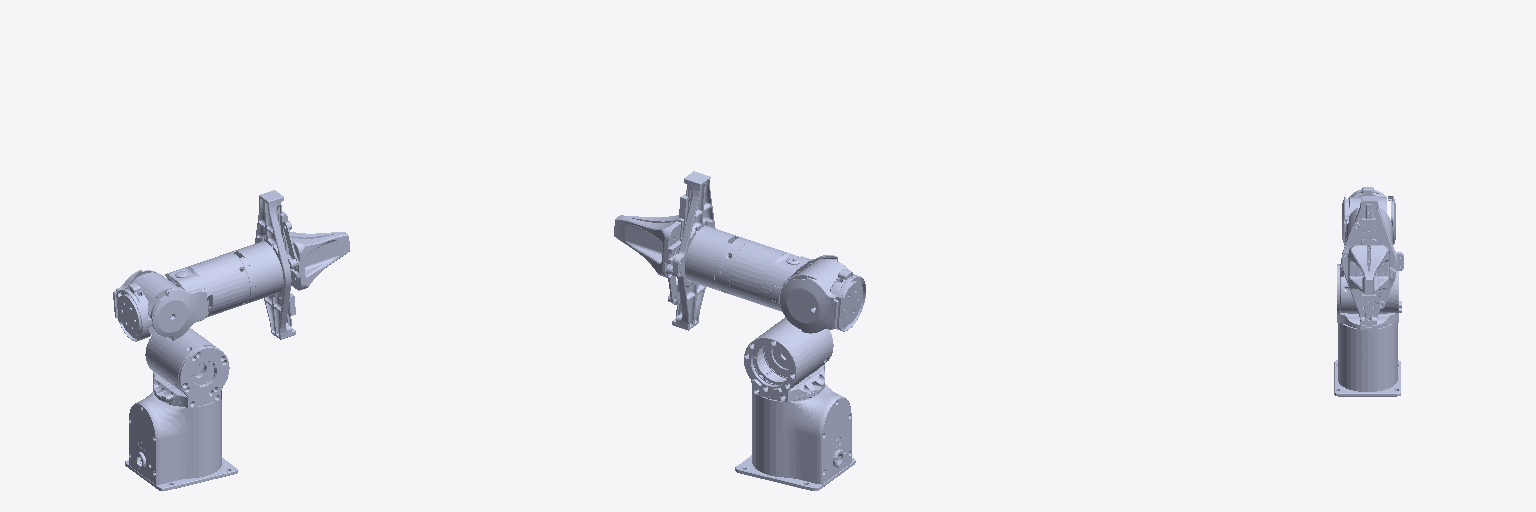
robot.urdf — agilex_piper_with_gripper:
<?xml version='1.0' encoding='utf-8'?>
<robot name="agilex_piper_with_gripper">
  <!-- Imported from piper_description 1.0.0; piper_description_v100.urdf SHA-256 f45e318ad58339945e5845f4e7a6db22dd334c1f8d4f1f1004285b6fd3be8529; joint frames aligned to the delivered MJCF; fixed TCP at link6 +Z 0.13503 m. -->
  <link name="arm_base">
    <inertial>
      <origin xyz="-0.00979274765955341 1.82905827587138E-06 0.0410100126360189" rpy="0 0 0" />
      <mass value="0.162548567403693" />
      <inertia ixx="0.000226596924525071" ixy="-7.33972270153965E-08" ixz="2.13249977802622E-06" iyy="0.000269444772561524" iyz="8.15169009611054E-09" izz="0.000222318258878636" />
    </inertial>
    <visual>
      <origin xyz="0 0 0" rpy="0 0 0" />
      <geometry>
        <mesh filename="meshes/dae/base_link.dae" />
      </geometry>
      <material name="">
        <color rgba="0.792156862745098 0.819607843137255 0.933333333333333 1" />
      </material>
    </visual>
    <collision>
      <origin xyz="0 0 0" rpy="0 0 0" />
      <geometry>
        <mesh filename="meshes/base_link.STL" />
      </geometry>
    </collision>
  </link>
  <link name="link1">
    <inertial>
      <origin xyz="0.00131676031927024 0.000310288842008612 -0.00922874512303437" rpy="0 0 0" />
      <mass value="0.0978679932242825" />
      <inertia ixx="7.76684558296782E-05" ixy="1.09084650459924E-07" ixz="-1.9748053243241E-06" iyy="9.24967780161547E-05" iyz="9.91284646834582E-07" izz="8.24589062407807E-05" />
    </inertial>
    <visual>
      <origin xyz="0 0 0" rpy="0 0 0" />
      <geometry>
        <mesh filename="meshes/dae/link1.dae" />
      </geometry>
      <material name="">
        <color rgba="0.792156862745098 0.819607843137255 0.933333333333333 1" />
      </material>
    </visual>
    <collision>
      <origin xyz="0 0 0" rpy="0 0 1.5708" />
      <geometry>
        <mesh filename="meshes/link1.STL" />
      </geometry>
    </collision>
  </link>
  <joint name="joint1" type="revolute">
    <origin xyz="0 0 0.123" rpy="0 0 -1.5708005694" />
    <parent link="arm_base" />
    <child link="link1" />
    <axis xyz="0 0 1" />
    <limit lower="-2.6179" upper="2.6179" effort="100" velocity="3" />
  </joint>
  <link name="link2">
    <inertial>
      <origin xyz="0.148793602378802 -0.00242026983944119 0.00175154638467948" rpy="0 0 0" />
      <mass value="0.290888938633388" />
      <inertia ixx="0.000148959640166183" ixy="-7.37750384371657E-05" ixz="-9.68688405196236E-07" iyy="0.00172800946632652" iyz="-1.09692225564224E-06" izz="0.0017754628344594" />
    </inertial>
    <visual>
      <origin xyz="0 0 0" rpy="0 0 0" />
      <geometry>
        <mesh filename="meshes/dae/link2.dae" />
      </geometry>
      <material name="">
        <color rgba="0.792156862745098 0.819607843137255 0.933333333333333 1" />
      </material>
    </visual>
    <collision>
      <origin xyz="0 0 0" rpy="0 0 0.1" />
      <geometry>
        <mesh filename="meshes/link2.STL" />
      </geometry>
    </collision>
  </link>
  <joint name="joint2" type="revolute">
    <origin xyz="0 0 0" rpy="1.5708003268 0 -1.5708003268" />
    <parent link="link1" />
    <child link="link2" />
    <axis xyz="0 0 1" />
    <limit lower="0" upper="3.14" effort="100" velocity="3" />
  </joint>
  <link name="link3">
    <inertial>
      <origin xyz="-0.0996835215213704 0.0349477226691318 0.000508025815507312" rpy="0 0 0" />
      <mass value="0.290847697793211" />
      <inertia ixx="0.000107879011637167" ixy="2.92669521203626E-05" ixz="6.825922326238E-07" iyy="0.000214751671792086" iyz="-7.78469047878196E-07" izz="0.000241923439340319" />
    </inertial>
    <visual>
      <origin xyz="0 0 0" rpy="0 0 0" />
      <geometry>
        <mesh filename="meshes/dae/link3.dae" />
      </geometry>
      <material name="">
        <color rgba="0.792156862745098 0.819607843137255 0.933333333333333 1" />
      </material>
    </visual>
    <collision>
      <origin xyz="0 0 0" rpy="0 0 -1.75" />
      <geometry>
        <mesh filename="meshes/link3.STL" />
      </geometry>
    </collision>
  </link>
  <joint name="joint3" type="revolute">
    <origin xyz="0.28358 0.028726 0" rpy="0 0 0.1009501011" />
    <parent link="link2" />
    <child link="link3" />
    <axis xyz="0 0 1" />
    <limit lower="-2.967" upper="0" effort="100" velocity="3" />
  </joint>
  <link name="link4">
    <inertial>
      <origin xyz="0.000276464622387979 -0.00102803669324875 -0.00472830700561663" rpy="0 0 0" />
      <mass value="0.127087348341362" />
      <inertia ixx="3.82011730423416E-05" ixy="-4.92358350897513E-08" ixz="4.89589432973119E-08" iyy="4.87048555222578E-05" iyz="6.70802942500512E-08" izz="4.10592077565559E-05" />
    </inertial>
    <visual>
      <origin xyz="0 0 0" rpy="0 0 0" />
      <geometry>
        <mesh filename="meshes/dae/link4.dae" />
      </geometry>
      <material name="">
        <color rgba="0.792156862745098 0.819607843137255 0.933333333333333 1" />
      </material>
    </visual>
    <collision>
      <origin xyz="0 0 0" rpy="0 0 0" />
      <geometry>
        <mesh filename="meshes/link4.STL" />
      </geometry>
    </collision>
  </link>
  <joint name="joint4" type="revolute">
    <origin xyz="-0.24221 0.068514 0" rpy="-1.5707994075 0.0000007137 1.382599809" />
    <parent link="link3" />
    <child link="link4" />
    <axis xyz="0 0 1" />
    <limit lower="-1.745" upper="1.745" effort="100" velocity="3" />
  </joint>
  <link name="link5">
    <inertial>
      <origin xyz="8.82262433516967E-05 0.0566829014808256 -0.00196119720482461" rpy="0 0 0" />
      <mass value="0.144711242639457" />
      <inertia ixx="4.39644313662493E-05" ixy="-3.59259686444846E-08" ixz="-1.89747741386183E-08" iyy="5.63173920951307E-05" iyz="-2.1540716689785E-07" izz="4.88713664675268E-05" />
    </inertial>
    <visual>
      <origin xyz="0 0 0" rpy="0 0 0" />
      <geometry>
        <mesh filename="meshes/dae/link5.dae" />
      </geometry>
      <material name="">
        <color rgba="0.792156862745098 0.819607843137255 0.933333333333333 1" />
      </material>
    </visual>
    <collision>
      <origin xyz="0 0 0" rpy="0 0 -3.14" />
      <geometry>
        <mesh filename="meshes/link5.STL" />
      </geometry>
    </collision>
  </link>
  <joint name="joint5" type="revolute">
    <origin xyz="0 0 0" rpy="1.5708005694 0 0" />
    <parent link="link4" />
    <child link="link5" />
    <axis xyz="0 0 1" />
    <limit lower="-1.22" upper="1.22" effort="100" velocity="3" />
  </joint>
  <link name="link6">
    <inertial>
      <origin xyz="0.00103120214523473 0.0121761387587524 0.0315480874960164" rpy="0 0 0" />
      <mass value="0.195187143240719" />
      <inertia ixx="6.43790256535539E-05" ixy="-1.2366166157046E-06" ixz="1.97664606328472E-07" iyy="0.000126146396374301" iyz="2.41157078516408E-06" izz="0.000154087076816444" />
    </inertial>
    <visual>
      <origin xyz="-0.002 -0.0078 0.06" rpy="-1.57 0 0" />
      <geometry>
        <mesh filename="meshes/dae/gripper_base_100_v2.dae" />
      </geometry>
      <material name="">
        <color rgba="0.792156862745098 0.819607843137255 0.933333333333333 1" />
      </material>
    </visual>
    <collision>
      <origin xyz="-0.002 -0.0078 0.06" rpy="-1.57 0 0" />
      <geometry>
        <mesh filename="meshes/dae/gripper_base_100_v2.dae" />
      </geometry>
    </collision>
  </link>
  <joint name="joint6" type="revolute">
    <origin xyz="0 0.091 0.0014165" rpy="1.5707920842 0 -3.1415926536" />
    <parent link="link5" />
    <child link="link6" />
    <axis xyz="0 0 1" />
    <limit lower="-2.09439" upper="2.09439" effort="100" velocity="3" />
  </joint>
  <link name="link7">
    <inertial>
      <origin xyz="-0.000277778383727112 -0.0467673043650824 -0.00921029491873201" rpy="0 0 0" />
      <mass value="0.02648229234527" />
      <inertia ixx="9.99787479924589E-06" ixy="-1.57548495096104E-07" ixz="-2.71342775003487E-08" iyy="6.1795212293655E-06" iyz="-1.58939803580081E-06" izz="1.42102717246564E-05" />
    </inertial>
    <visual>
      <origin xyz="0 0 0" rpy="0 0 0" />
      <geometry>
        <mesh filename="meshes/dae/link7.dae" />
      </geometry>
      <material name="">
        <color rgba="0.792156862745098 0.819607843137255 0.933333333333333 1" />
      </material>
    </visual>
    <collision>
      <origin xyz="-0.001 0 0.0003" rpy="0 3.14 0" />
      <geometry>
        <mesh filename="meshes/link7.STL" />
      </geometry>
    </collision>
  </link>
  <joint name="joint7" type="prismatic">
    <origin xyz="0 0 0.13503" rpy="1.5708005694 0 3.1415926" />
    <parent link="link6" />
    <child link="link7" />
    <axis xyz="0 0 -1" />
    <limit lower="0" upper="0.0525" effort="100" velocity="1" />
  </joint>
  <link name="link8">
    <inertial>
      <origin xyz="0.000277816920932317 0.0467673824063769 -0.00921030054508036" rpy="0 0 0" />
      <mass value="0.0264822021416248" />
      <inertia ixx="9.99779119357223E-06" ixy="-1.57542283433504E-07" ixz="2.71367446701359E-08" iyy="6.17952441557932E-06" iyz="1.58939319453383E-06" izz="1.4210192754512E-05" />
    </inertial>
    <visual>
      <origin xyz="0 0 0" rpy="0 0 0" />
      <geometry>
        <mesh filename="meshes/dae/link8.dae" />
      </geometry>
      <material name="">
        <color rgba="0.792156862745098 0.819607843137255 0.933333333333333 1" />
      </material>
    </visual>
    <collision>
      <origin xyz="-0.001 0 0.0003" rpy="3.14 0 0" />
      <geometry>
        <mesh filename="meshes/link8.STL" />
      </geometry>
    </collision>
  </link>
  <joint name="joint8" type="prismatic">
    <origin xyz="0 0 0.13503" rpy="-1.5708005694 0 3.1415926" />
    <parent link="link6" />
    <child link="link8" />
    <axis xyz="0 0 1" />
    <limit lower="-0.0525" upper="0" effort="100" velocity="1" />
    <mimic joint="joint7" multiplier="-1" offset="0" />
  </joint>
  <link name="tcp" />
  <joint name="tcp_joint" type="fixed">
    <origin xyz="0 0 0.13503" rpy="0 0 0" />
    <parent link="link6" />
    <child link="tcp" />
  </joint>
</robot>

--- Facts derived from the render (not from the file) ---
3 views of the same robot in one strip: view 1: azimuth 30°, elevation 25°; view 2: azimuth 150°, elevation 25°; view 3: azimuth 270°, elevation 25° (orthographic).
Robot: agilex_piper_with_gripper — 10 links, 9 joints (6 revolute, 2 prismatic, 1 fixed); root link arm_base; default pose: every joint at zero.
Links seen in each view (by area): view 1: arm_base, link6, link1, link5, link4, link7; view 2: arm_base, link6, link1, link4, link5, link8; view 3: arm_base, link6, link1, link7, link8, link4, link5.
Boxes of the visible links, x1,y1,x2,y2 form: arm_base: (125,392,237,490); link6: (220,190,298,339); link1: (145,328,229,407); link5: (150,256,244,340); link4: (113,270,178,341); link7: (287,233,349,290); arm_base: (735,384,855,490); link6: (666,171,750,330); link1: (744,317,833,402); link4: (780,259,865,333); link5: (726,240,848,311); link8: (614,217,680,277); arm_base: (1334,323,1400,396); link6: (1341,196,1403,330); link1: (1337,264,1401,327); link7: (1348,245,1368,294); link8: (1369,245,1389,294); link4: (1348,187,1395,244); link5: (1342,197,1392,245).
Size in the robot's own frame: 0.3514 by 0.2965 by 0.4817 metres.
7 mesh visuals loaded from 9 distinct referenced files (7 Collada DAE); not drawn: 2 (reference not matched to a file when rendering).
